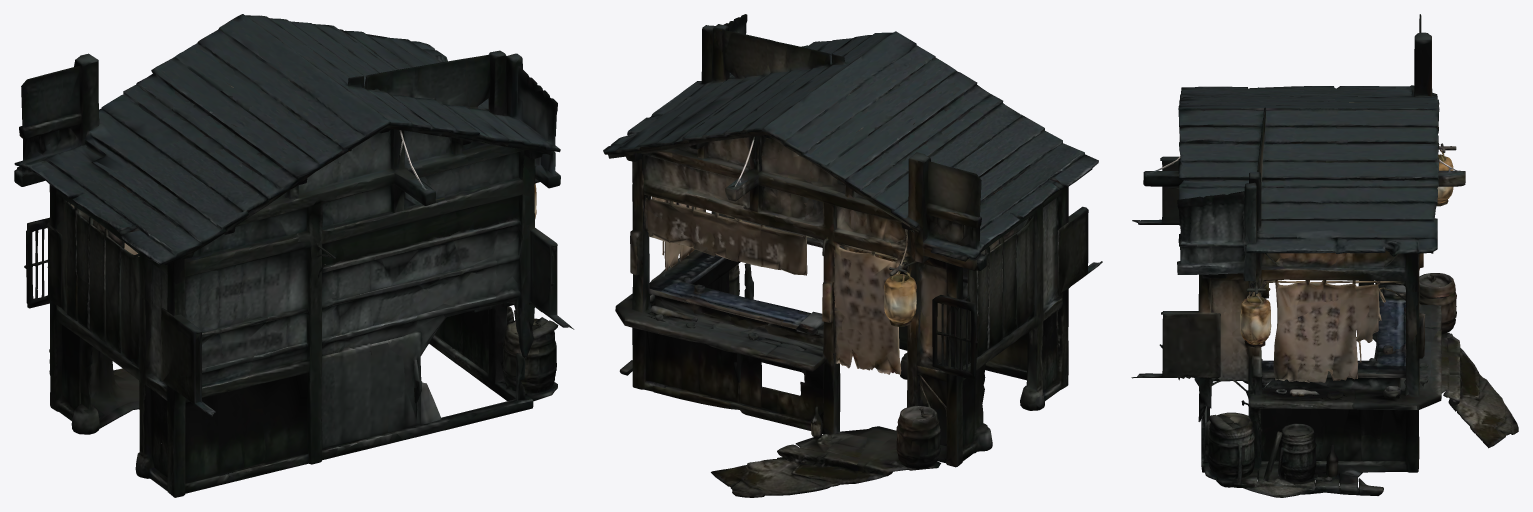
Rendered from SakeTavern.opt.glb.
3 renders of one model, left to right at view 1: azimuth 30°, elevation 25°; view 2: azimuth 150°, elevation 25°; view 3: azimuth 270°, elevation 25°, orthographic. The views are drawn at different scales.
Bounding box in the file's own units: 0.9815 × 0.7982 × 0.8391.
Materials: 1 (1 with a texture image).
